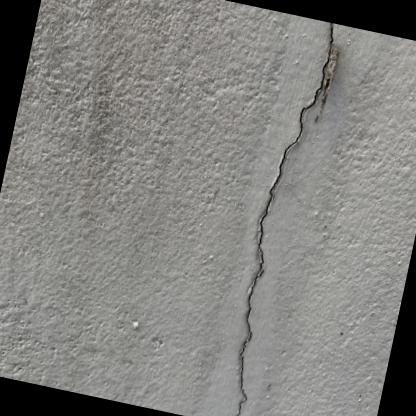crack: (232, 21, 334, 416)
